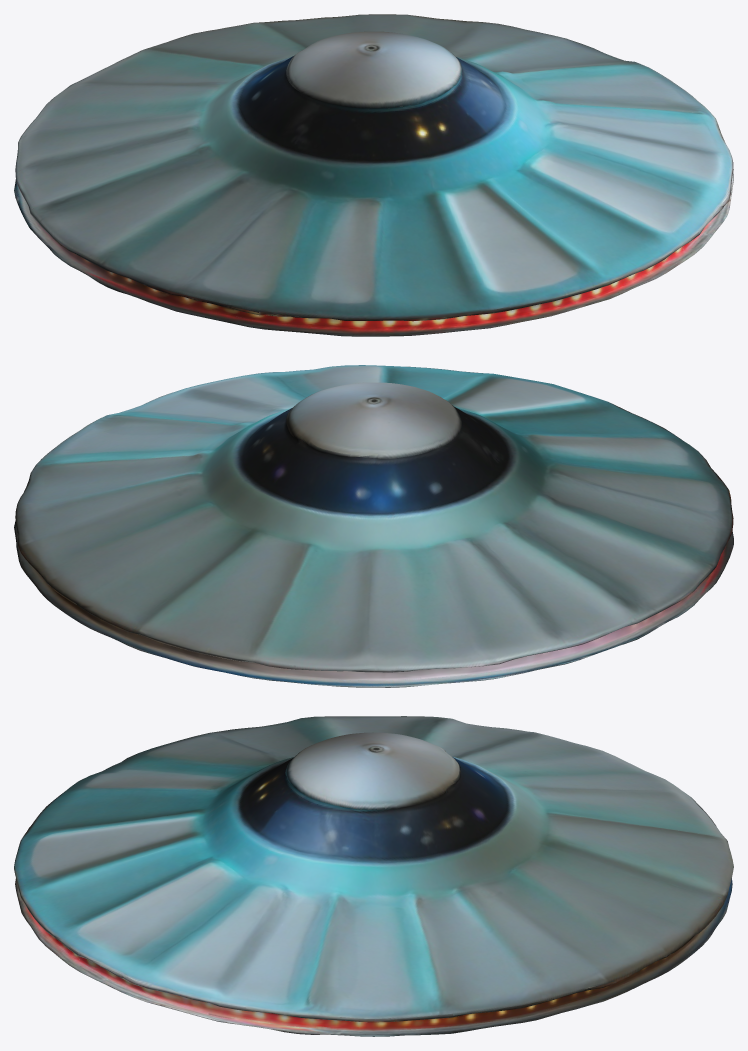
File: soucoupe.glb
3 renders of one model, top to bottom at view 1: azimuth 30°, elevation 25°; view 2: azimuth 150°, elevation 25°; view 3: azimuth 270°, elevation 25°, orthographic.
Bounding box in the file's own units: 1.99 × 0.6515 × 1.99.
Materials: 1 (1 with a texture image).
